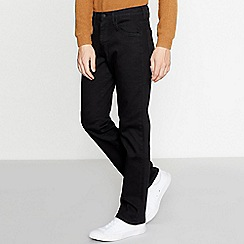jeans: (72, 10, 176, 222)
